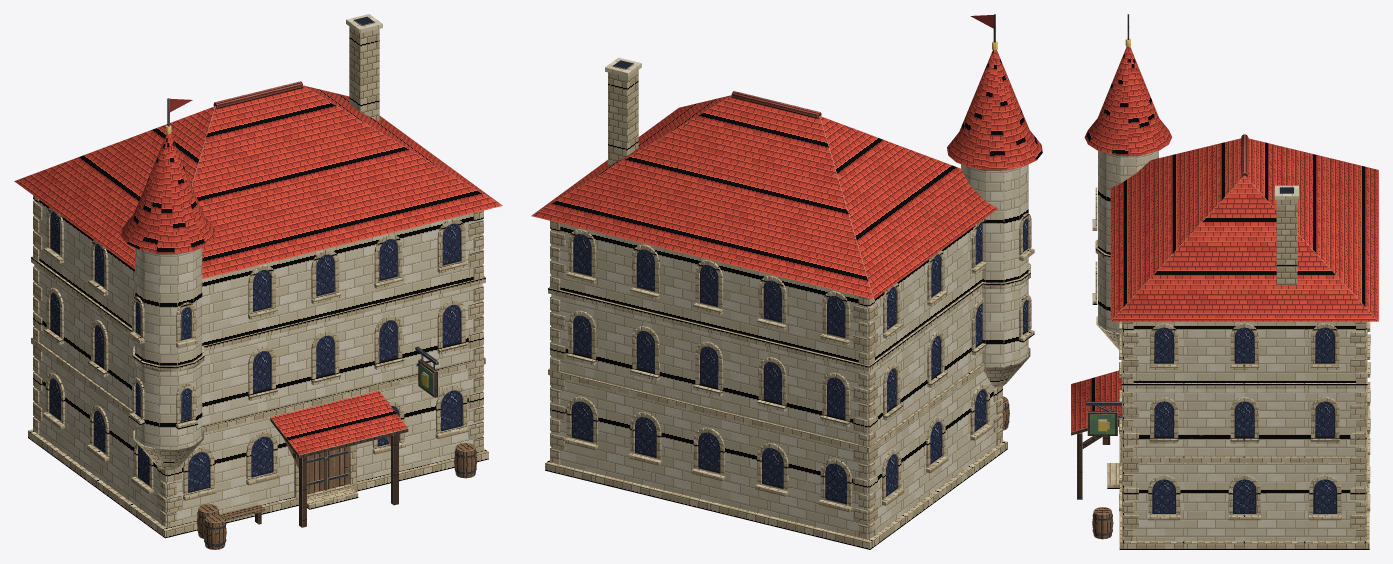
File: tavern_1.glb
3 renders of one model, left to right at view 1: azimuth 30°, elevation 25°; view 2: azimuth 150°, elevation 25°; view 3: azimuth 270°, elevation 25°, orthographic. The views are drawn at different scales.
Parts seen in each view (by area): view 1: tavern_2; view 2: tavern_2; view 3: tavern_2.
Boxes of the visible parts, x1=… form: tavern_2: x1=14, y1=14, x2=502, y2=549; tavern_2: x1=531, y1=14, x2=1042, y2=549; tavern_2: x1=1071, y1=14, x2=1378, y2=549.
Bounding box in the file's own units: 12.75 × 14.45 × 10.19.
17 materials, 17 textured.
